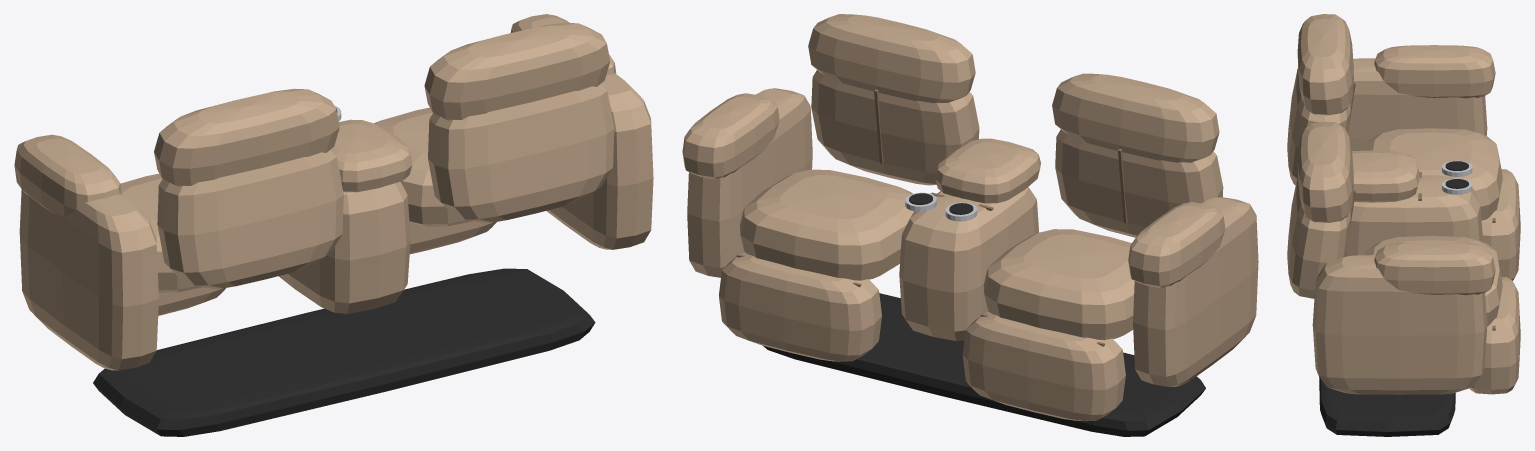
File: drake-2-seater-console.glb
3 views of the same model, side by side, from view 1: azimuth 30°, elevation 25°; view 2: azimuth 150°, elevation 25°; view 3: azimuth 270°, elevation 25° (orthographic). The views are drawn at different scales.
Visible parts, largest first — view 1: lower_base, arm_body_-1, back_lower_1, back_lower_2, headrest_2, headrest_1, console_body, arm_body_1, arm_top_-1, console_lid, seat_2, seat_1 (+3 smaller); view 2: seat_2, arm_body_-1, seat_1, console_body, front_drop_2, front_drop_1, lower_base, back_lower_2, headrest_1, headrest_2, back_lower_1, arm_body_1 (+3 smaller); view 3: arm_body_1, console_body, arm_body_-1, arm_top_-1, arm_top_1, lower_base, seat_1, headrest_1, headrest_2, back_lower_2, front_drop_2, console_lid (+5 smaller).
Boxes of the visible parts, left/top/right/bottom form: lower_base: left=93, top=268, right=595, bottom=436; arm_body_-1: left=19, top=189, right=158, bottom=370; back_lower_1: left=157, top=150, right=343, bottom=288; back_lower_2: left=428, top=84, right=614, bottom=222; headrest_2: left=424, top=22, right=610, bottom=120; headrest_1: left=154, top=88, right=339, bottom=186; console_body: left=278, top=181, right=410, bottom=313; arm_body_1: left=546, top=73, right=653, bottom=249; arm_top_-1: left=14, top=134, right=121, bottom=216; console_lid: left=330, top=119, right=412, bottom=192; seat_2: left=374, top=107, right=473, bottom=226; seat_1: left=120, top=173, right=202, bottom=292; seat_2: left=740, top=169, right=913, bottom=280; arm_body_-1: left=1133, top=197, right=1258, bottom=386; seat_1: left=983, top=229, right=1134, bottom=340; console_body: left=899, top=187, right=1038, bottom=341; front_drop_2: left=719, top=252, right=881, bottom=361; front_drop_1: left=962, top=311, right=1125, bottom=421; lower_base: left=763, top=293, right=1205, bottom=436; back_lower_2: left=811, top=70, right=979, bottom=185; headrest_1: left=1052, top=73, right=1219, bottom=162; headrest_2: left=808, top=14, right=975, bottom=103; back_lower_1: left=1055, top=129, right=1223, bottom=237; arm_body_1: left=687, top=88, right=812, bottom=277; arm_body_1: left=1312, top=255, right=1487, bottom=394; console_body: left=1346, top=175, right=1483, bottom=256; arm_body_-1: left=1348, top=58, right=1487, bottom=150; arm_top_-1: left=1374, top=45, right=1495, bottom=98; arm_top_1: left=1374, top=242, right=1495, bottom=295; lower_base: left=1319, top=376, right=1455, bottom=436; seat_1: left=1364, top=128, right=1502, bottom=220; headrest_1: left=1297, top=14, right=1353, bottom=115; headrest_2: left=1297, top=121, right=1353, bottom=222; back_lower_2: left=1287, top=176, right=1351, bottom=298; front_drop_2: left=1470, top=277, right=1520, bottom=394; console_lid: left=1352, top=150, right=1419, bottom=202.
Size of the model in its own units: 1.84 by 1.02 by 0.83.
